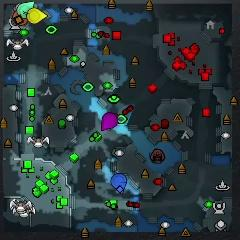p1: (111, 173, 127, 192)
p2: (18, 1, 35, 19)
p3: (102, 112, 117, 131)
p4: (27, 8, 47, 23)
p5: (12, 11, 27, 26)
